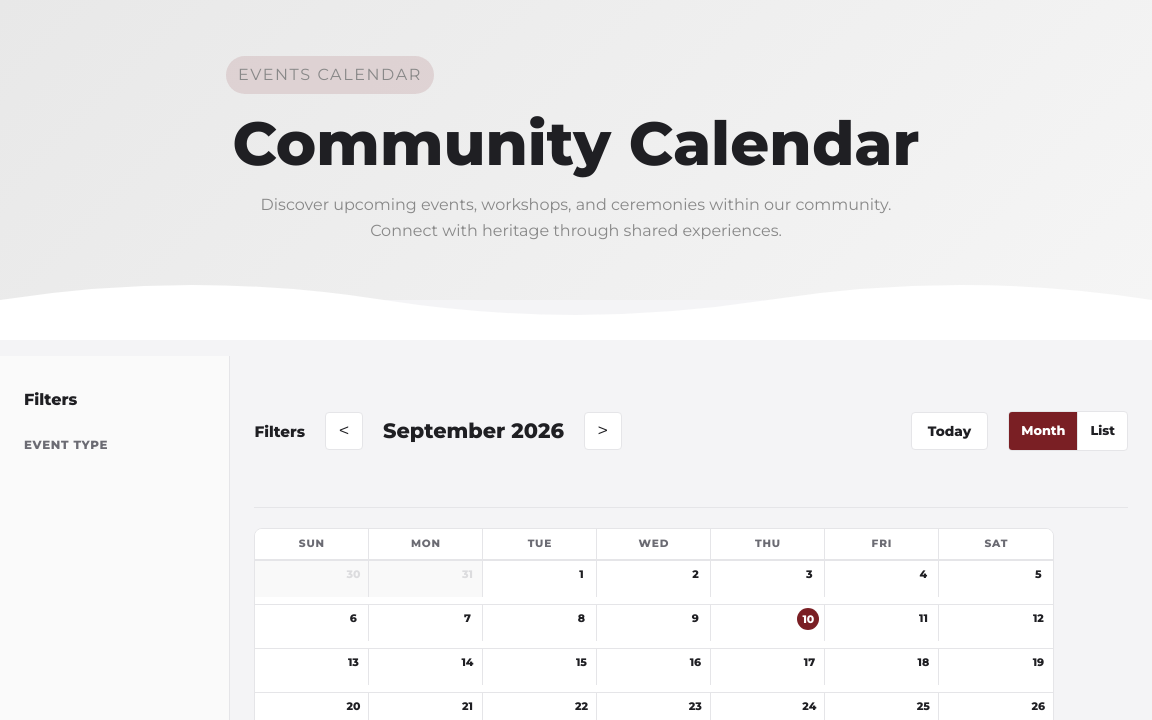
Test case: EventCalendarPage › shows an empty list state when list view has no events
Click the button "List": [1103, 431] box [1078, 412, 1127, 450]
(page scrolled)
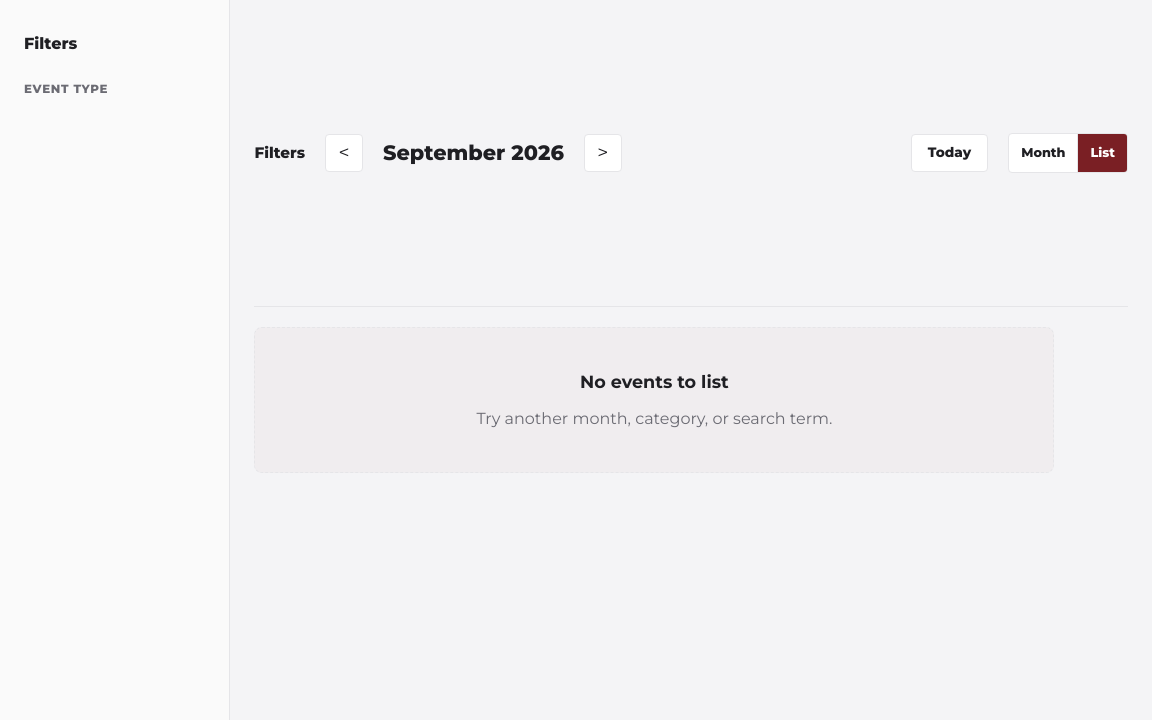
Expected: the heading "No events to list" is shown, [580, 371, 729, 392]
